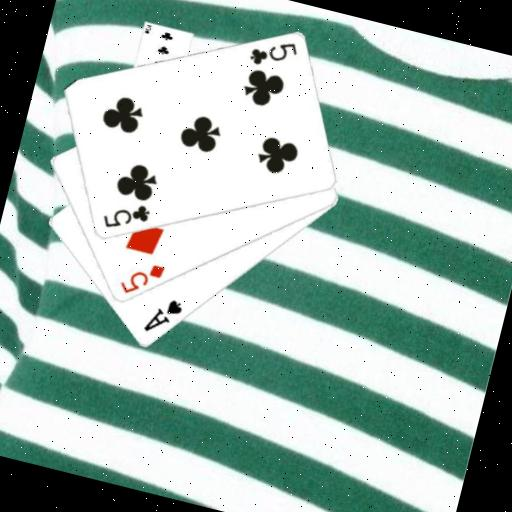5C: (245, 30, 302, 76), (97, 193, 153, 239)
5D: (114, 254, 167, 304)
AS: (140, 291, 187, 341)
